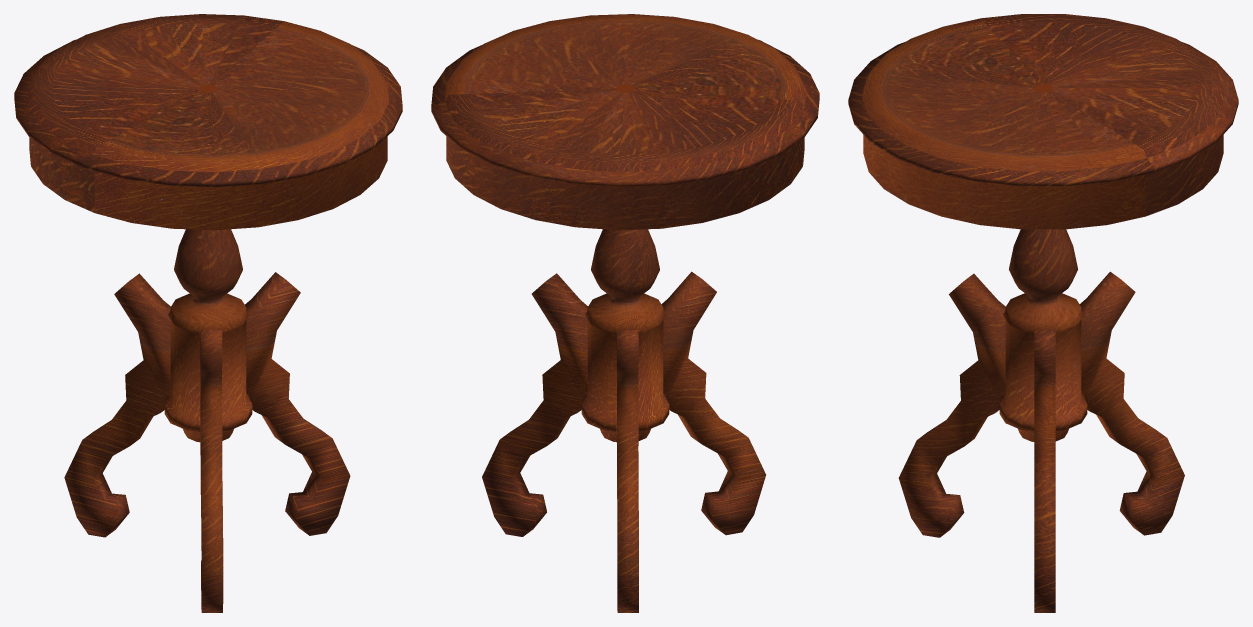
The model's file is Stool_LOD.fbx.
The picture shows the model from 3 angles, left to right: view 1: azimuth 30°, elevation 25°; view 2: azimuth 150°, elevation 25°; view 3: azimuth 270°, elevation 25°; orthographic projection.
Visible parts, largest first — view 1: Stool_LOD0; view 2: Stool_LOD0; view 3: Stool_LOD0.
Part boxes in pixels (left/top/right/bottom): Stool_LOD0: left=14, top=14, right=402, bottom=612; Stool_LOD0: left=431, top=14, right=819, bottom=612; Stool_LOD0: left=848, top=14, right=1238, bottom=612.
Size of what is drawn, in the model's own units: 127 by 170 by 128.
